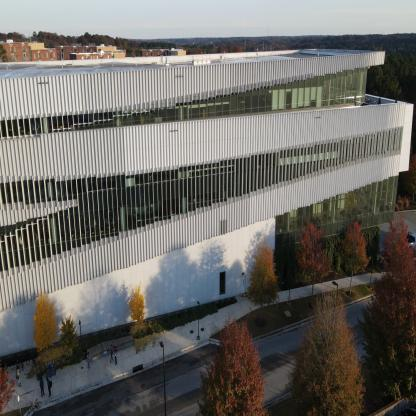Hunt Library: (0, 12, 414, 376)
